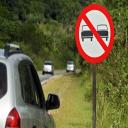NoUltrapassar: (73, 2, 117, 67)
